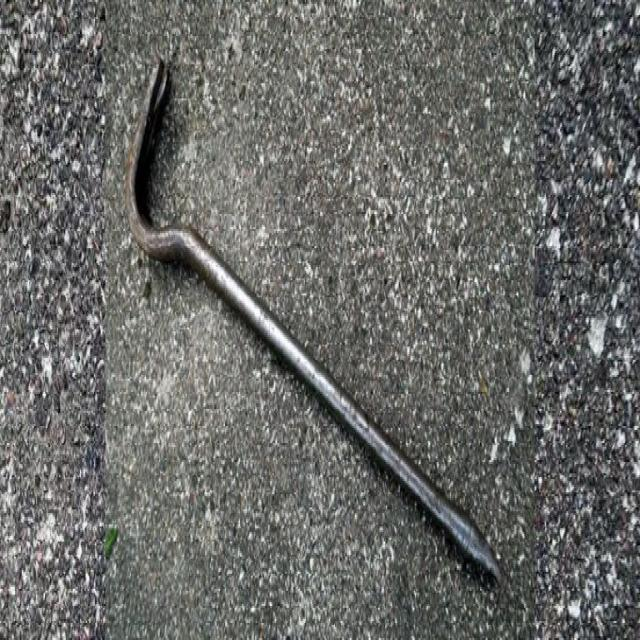Linggis: (122, 38, 518, 605)
